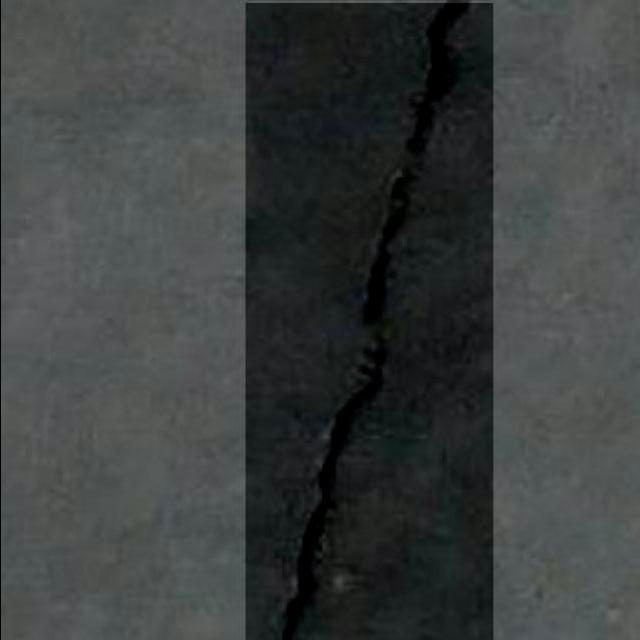SurfaceCrack: (236, 0, 484, 640)
